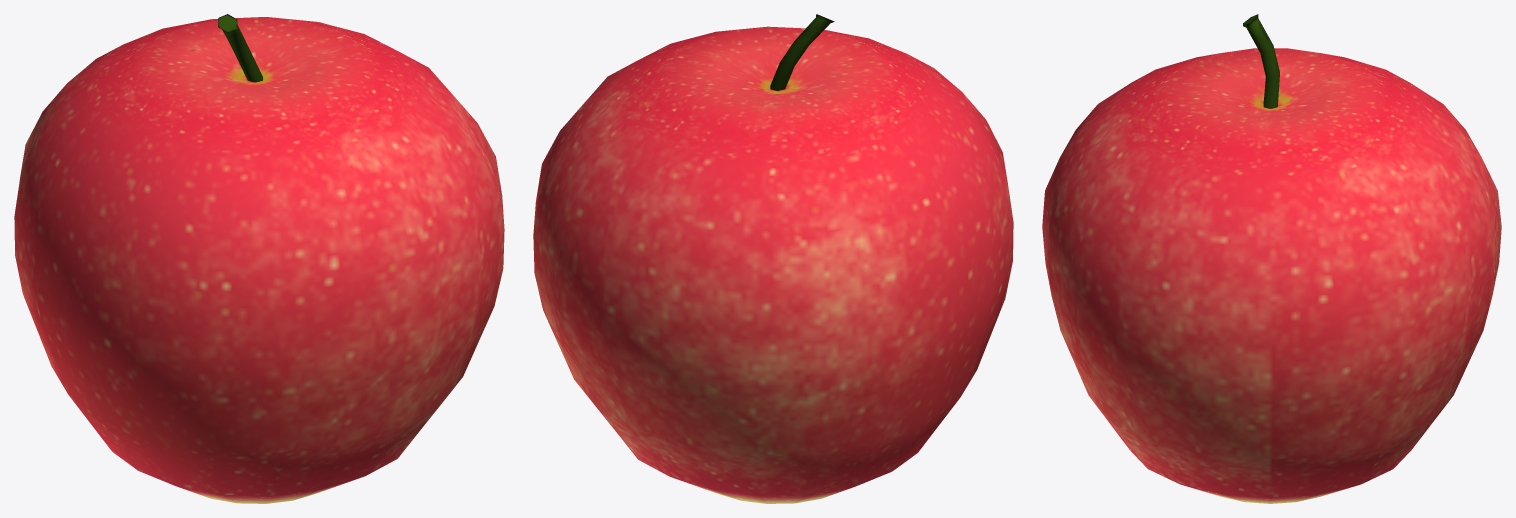
The model's file is apple_01.fbx.
The picture shows the model from 3 angles, left to right: view 1: azimuth 30°, elevation 25°; view 2: azimuth 150°, elevation 25°; view 3: azimuth 270°, elevation 25°; orthographic projection. The views are drawn at different scales.
Visible parts, largest first — view 1: nurbsToPoly1, pCylinder1; view 2: nurbsToPoly1, pCylinder1; view 3: nurbsToPoly1, pCylinder1.
Boxes of the visible parts, x1,y1,x2,y2 form: nurbsToPoly1: [14, 17, 504, 503]; pCylinder1: [218, 14, 262, 82]; nurbsToPoly1: [533, 26, 1013, 503]; pCylinder1: [770, 14, 834, 90]; nurbsToPoly1: [1042, 48, 1501, 503]; pCylinder1: [1243, 14, 1279, 108].
Size of the model in its own units: 14.89 by 15.95 by 15.19.
Materials: 1 (1 with a texture image).
